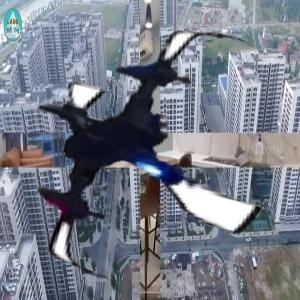drone: (12, 12, 298, 298)
